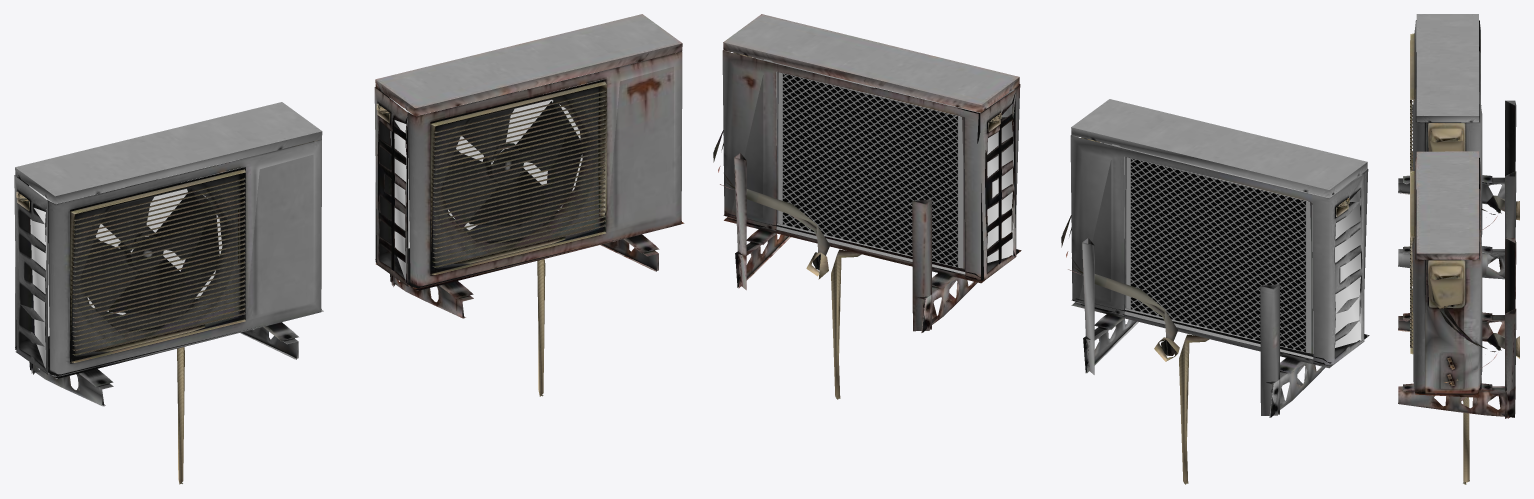
Rendered from ph_exterior_aircon_unit.glb.
3 renders of one model, left to right at view 1: azimuth 30°, elevation 25°; view 2: azimuth 150°, elevation 25°; view 3: azimuth 270°, elevation 25°, orthographic. The views are drawn at different scales.
Visible parts, largest first — view 1: exterior_aircon_unit; view 2: exterior_aircon_unit; view 3: exterior_aircon_unit.
Part boxes in pixels (<box>): exterior_aircon_unit: <box>14,14,684,484</box>; exterior_aircon_unit: <box>713,14,1369,484</box>; exterior_aircon_unit: <box>1398,14,1519,484</box>.
Size of the model in its own units: 1.8 by 0.9265 by 0.3749.
4 materials, 4 textured.
